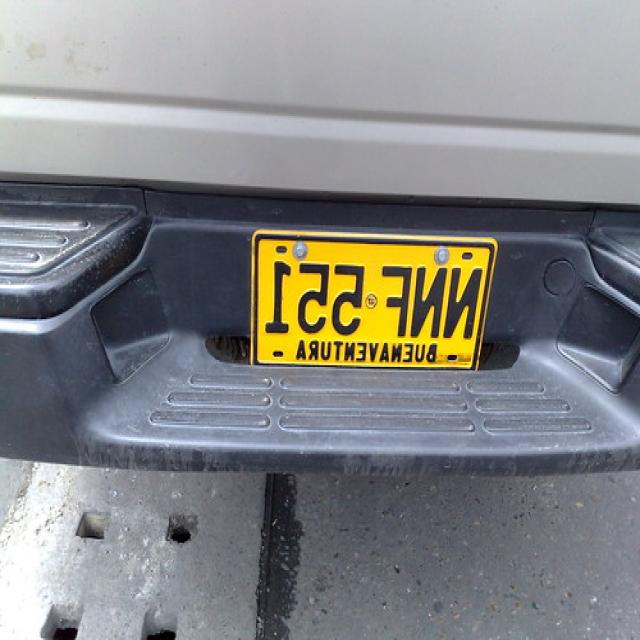placas: (260, 251, 487, 340)
